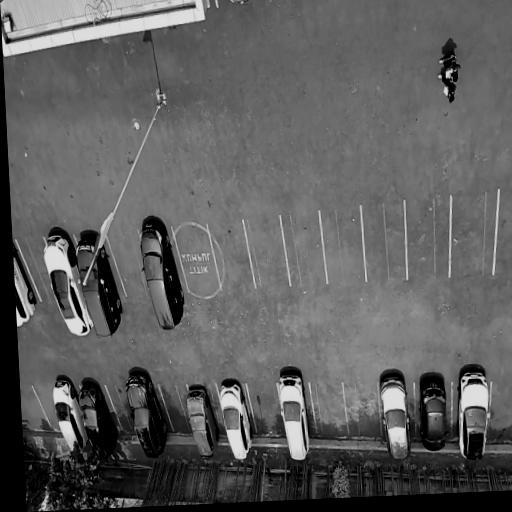Car: (32, 223, 95, 340), (69, 225, 128, 342), (134, 217, 190, 336), (70, 375, 125, 463), (122, 374, 172, 461), (216, 379, 259, 465), (378, 369, 415, 467), (274, 373, 315, 460), (455, 365, 490, 466), (50, 373, 91, 457), (415, 372, 449, 460), (186, 383, 224, 461), (13, 233, 41, 336), (222, 0, 257, 4)
Space Available: (451, 193, 498, 276), (172, 222, 222, 296), (405, 200, 451, 279), (321, 207, 366, 285), (363, 202, 406, 283), (207, 223, 256, 291), (281, 215, 327, 286), (244, 219, 289, 290), (106, 231, 150, 295), (15, 235, 56, 302), (310, 382, 349, 442), (345, 382, 381, 443), (246, 381, 283, 438), (104, 382, 137, 439), (158, 383, 194, 433), (32, 385, 63, 437), (494, 190, 512, 276), (488, 383, 512, 446)
